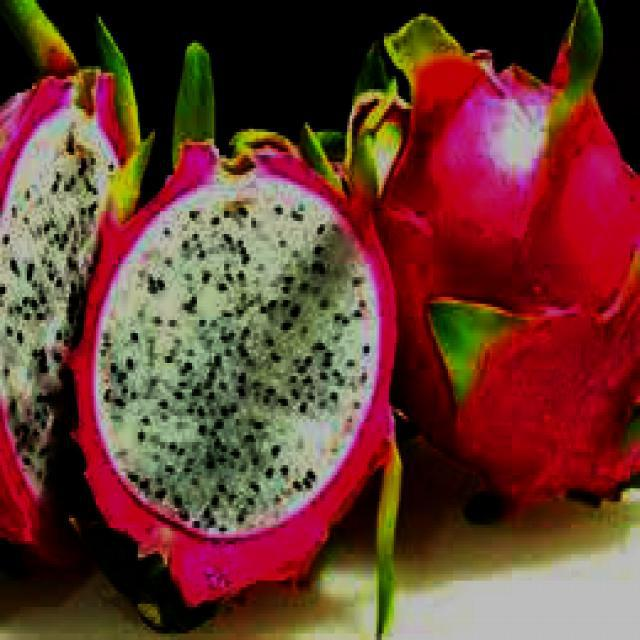trang: (73, 140, 396, 616), (344, 1, 638, 514), (0, 0, 157, 559)
